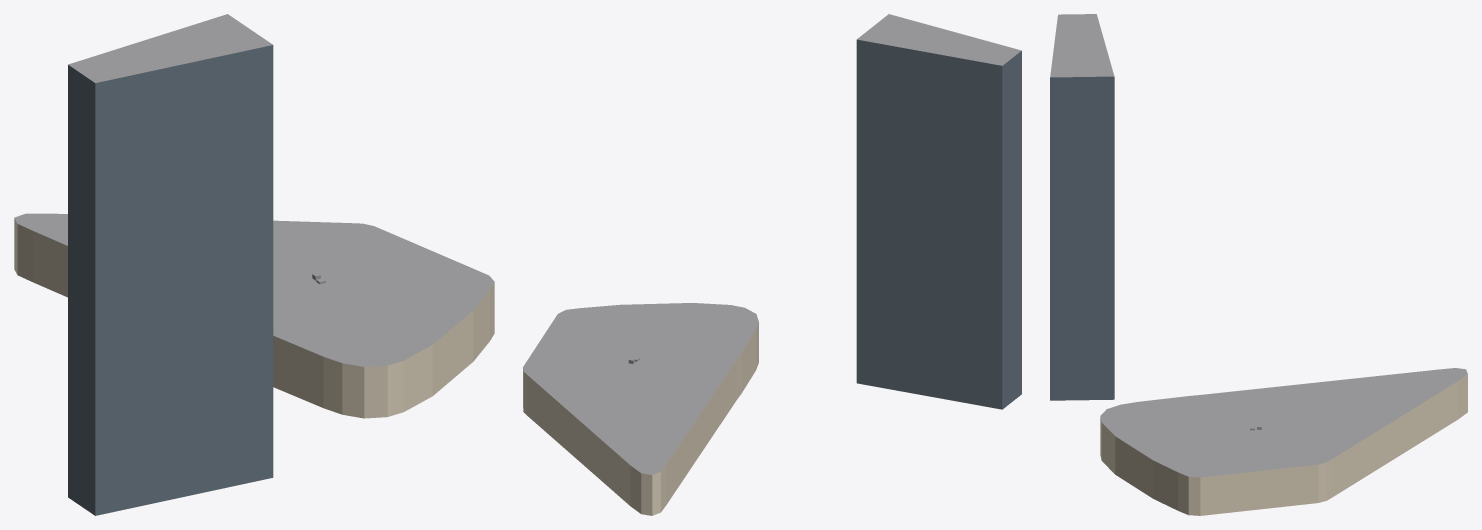
File: building_-1_-1.glb
The picture shows the model from 3 angles, left to right: view 1: azimuth 30°, elevation 25°; view 2: azimuth 150°, elevation 25°; view 3: azimuth 270°, elevation 25°; orthographic projection. The views are drawn at different scales.
Visible parts, largest first — view 1: glass_dark, roof, sandstone; view 2: glass_dark, roof, sandstone; view 3: roof, glass_dark, sandstone.
Boxes of the visible parts, box(x1,y1,x2,y2) form: glass_dark: box(68, 45, 273, 515); roof: box(14, 14, 494, 366); sandstone: box(14, 218, 494, 418); glass_dark: box(856, 39, 1021, 409); roof: box(523, 14, 1021, 474); sandstone: box(523, 322, 758, 515); roof: box(1050, 14, 1467, 477); glass_dark: box(1050, 76, 1114, 400); sandstone: box(1100, 374, 1467, 515).
Size of the model in its own units: 199 by 168 by 197.
